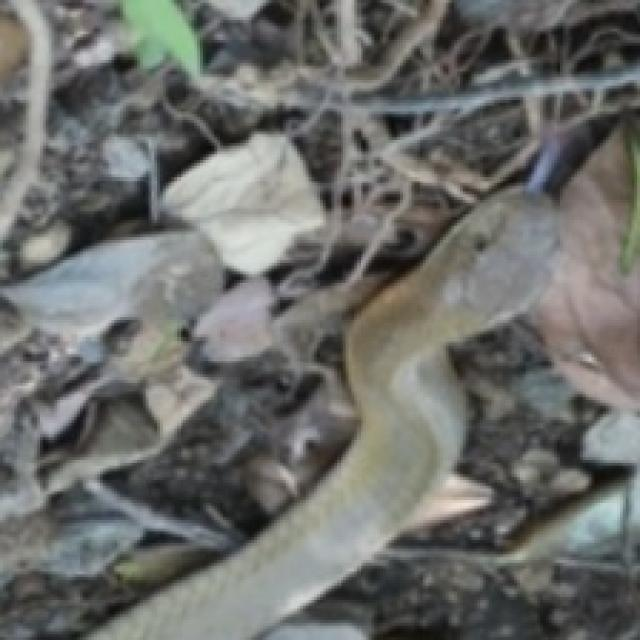king cobra: (89, 188, 558, 639)
